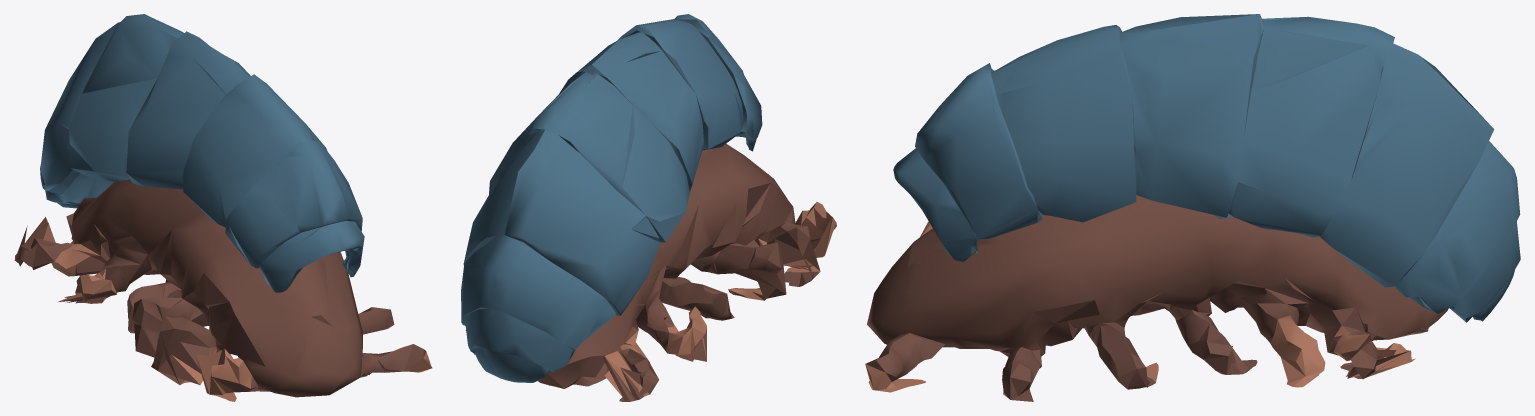
Rendered from big-spitter-corpse-2.glb.
The picture shows the model from 3 angles, left to right: view 1: azimuth 30°, elevation 25°; view 2: azimuth 150°, elevation 25°; view 3: azimuth 270°, elevation 25°; orthographic projection. The views are drawn at different scales.
Visible parts, largest first — view 1: body; view 2: body; view 3: body.
Part boxes in pixels (box(x1,y1,x2,y2)): body: box(14, 14, 432, 401); body: box(461, 14, 836, 401); body: box(865, 14, 1520, 401).
Size of the model in its own units: 1.67 by 1.68 by 3.14.
